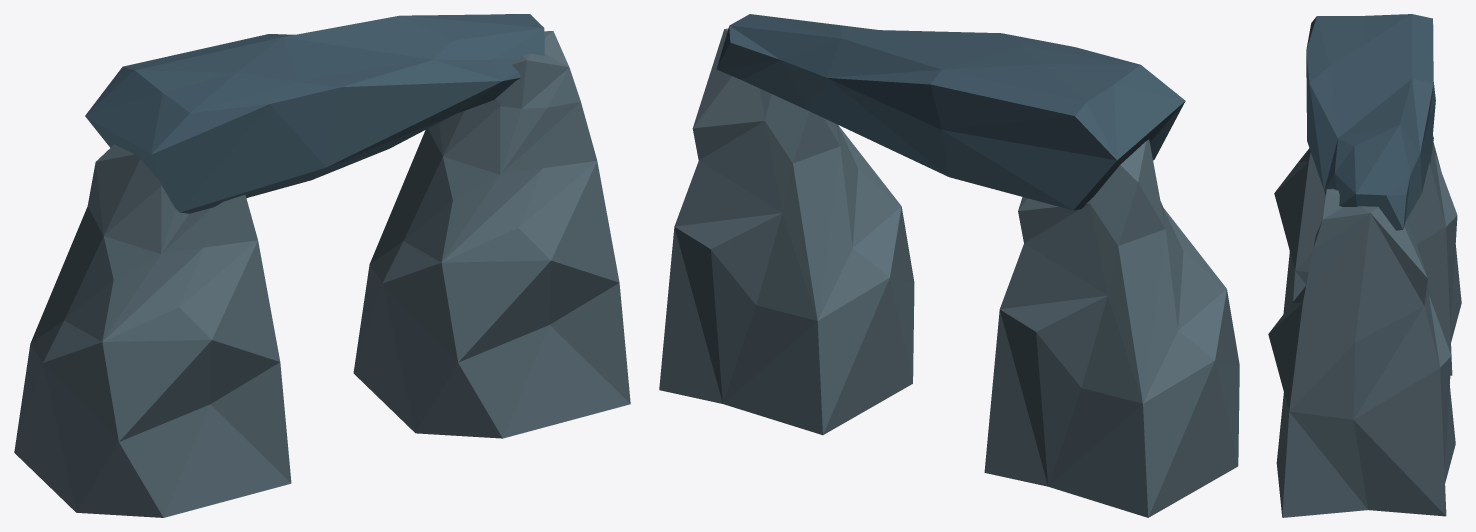
Rendered from RH_Rock010.fbx.
3 renders of one model, left to right at view 1: azimuth 30°, elevation 25°; view 2: azimuth 150°, elevation 25°; view 3: azimuth 270°, elevation 25°, orthographic. The views are drawn at different scales.
Visible parts, largest first — view 1: RH_Rock010; view 2: RH_Rock010; view 3: RH_Rock010.
Part boxes in pixels (bbox=[...]): RH_Rock010: bbox=[14, 14, 630, 517]; RH_Rock010: bbox=[659, 14, 1239, 517]; RH_Rock010: bbox=[1268, 14, 1461, 517].
Bounding box in the file's own units: 331 × 227 × 121.
Materials: 1 (1 with a texture image).
